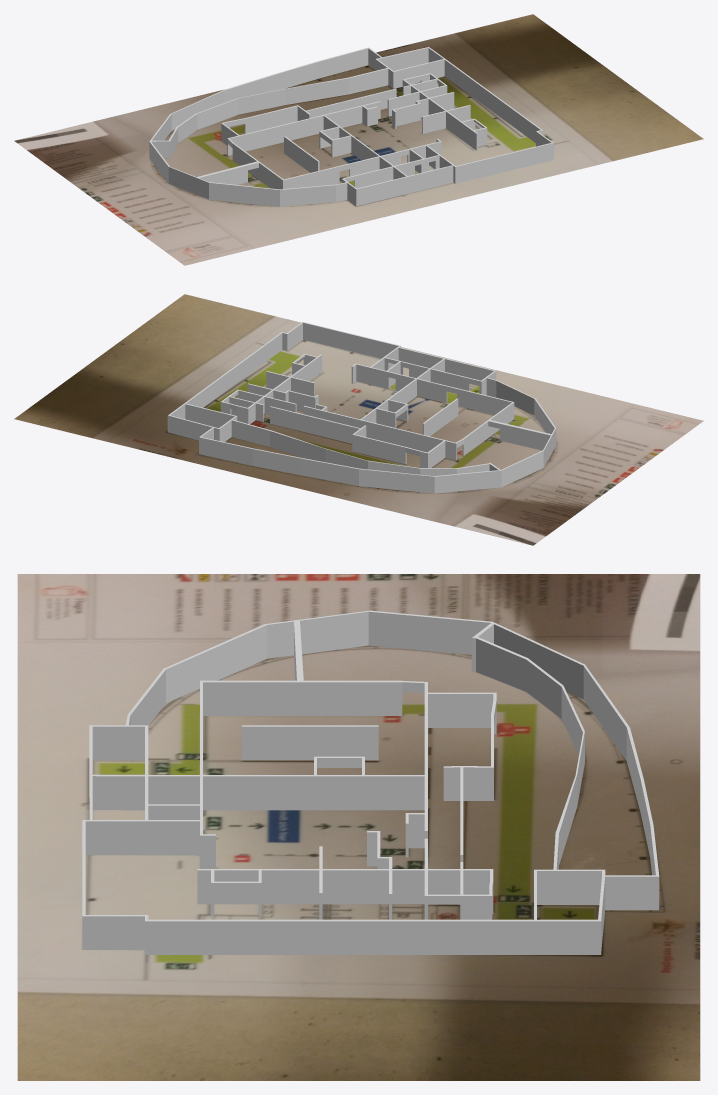
3 renders of one model, top to bottom at view 1: azimuth 30°, elevation 25°; view 2: azimuth 150°, elevation 25°; view 3: azimuth 270°, elevation 25°, orthographic. The views are drawn at different scales.
Parts seen in each view (by area): view 1: 1bE, 3D_1BE_001; view 2: 1bE, 3D_1BE_001; view 3: 1bE, 3D_1BE_001.
Part boxes in pixels (bbox=[...]): 1bE: bbox=[14, 14, 703, 265]; 3D_1BE_001: bbox=[149, 47, 553, 206]; 1bE: bbox=[14, 294, 703, 545]; 3D_1BE_001: bbox=[167, 322, 556, 493]; 1bE: bbox=[17, 574, 700, 1080]; 3D_1BE_001: bbox=[82, 610, 659, 954].
Bounding box in the file's own units: 74891 × 2455 × 42644.
Materials: 1 (1 with a texture image).
